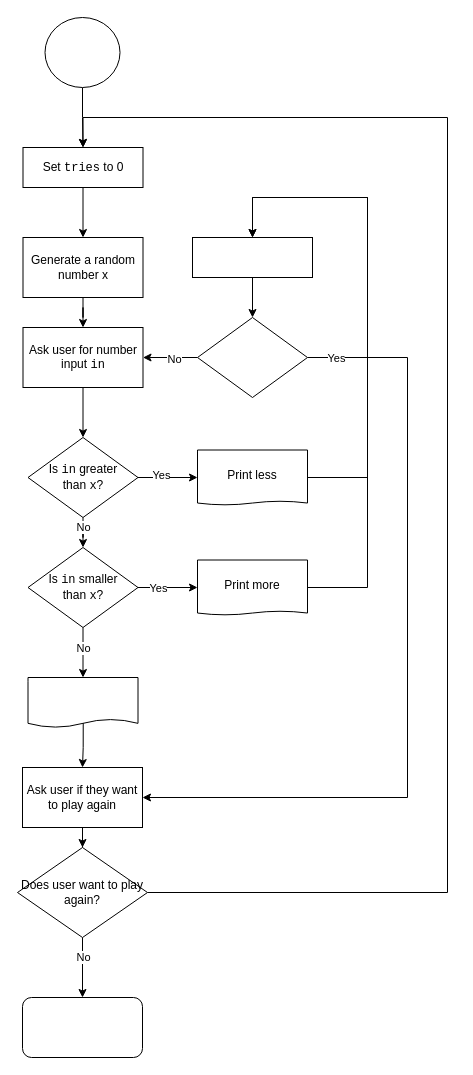
The diagram is 473 pixels wide and 1075 high, and some of its shapes have lost their labels. The shapes that lost their labels are listed below. From the top down, each one's centre as x and y in pixels, then its label:
At point (82, 52): "Start".
At point (252, 257): "Increment tries".
At point (252, 357): "Is tries greater than 5?".
At point (82, 702): "Print correct".
At point (82, 1027): "Exit".
